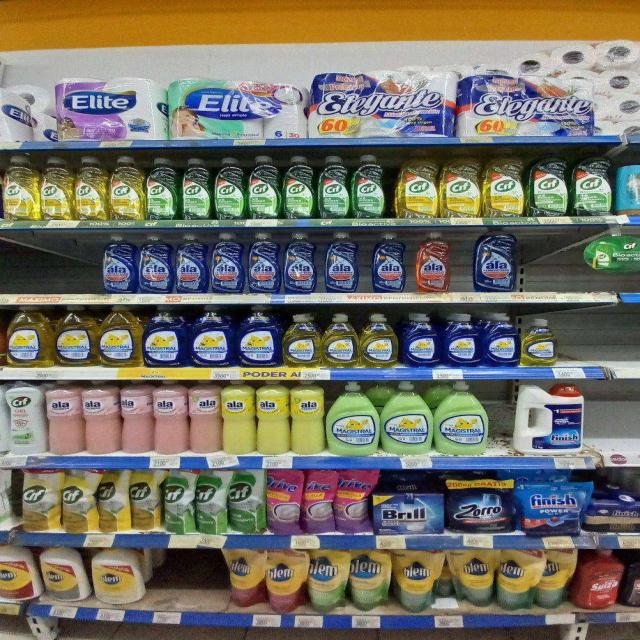ala_conc_azul: (470, 226, 522, 292), (320, 231, 363, 293), (368, 230, 409, 293), (99, 233, 136, 294), (282, 232, 318, 294), (209, 232, 245, 294), (137, 233, 173, 293), (246, 231, 280, 294), (174, 232, 208, 293)
ala_conc_rojo: (412, 230, 454, 293)
ala_crem_amarillo: (290, 378, 325, 454), (256, 379, 289, 455), (222, 378, 255, 454)
ala_crem_rosado: (46, 379, 82, 456), (8, 379, 44, 454), (84, 379, 119, 455), (154, 379, 187, 455), (188, 379, 221, 454), (121, 378, 152, 454)
cif_conc_bot_amarilla: (393, 150, 439, 218), (483, 148, 525, 217), (440, 149, 481, 218), (109, 154, 144, 220), (3, 154, 38, 220), (74, 155, 107, 221), (40, 155, 72, 220)
cif_conc_botella_verde: (527, 147, 570, 217), (571, 147, 614, 216), (351, 153, 389, 219), (246, 155, 280, 219), (316, 155, 350, 219), (282, 155, 315, 219), (213, 156, 246, 220), (145, 156, 178, 220), (180, 157, 212, 220)
cif_conc_sachet_amarillo: (20, 468, 59, 532), (61, 468, 97, 533), (130, 469, 161, 532), (99, 469, 129, 533)
cif_conc_sachet_verde: (229, 468, 265, 535), (196, 469, 228, 535), (163, 470, 195, 534)
drive: (336, 468, 375, 534), (267, 468, 302, 536), (303, 468, 335, 534)
magistral_con_amarillo: (5, 304, 51, 368), (99, 304, 142, 368), (54, 304, 97, 367), (359, 313, 398, 368), (284, 312, 320, 368), (322, 312, 358, 368), (521, 318, 556, 367)
magistral_con_azul: (188, 303, 234, 368), (236, 304, 281, 368), (144, 303, 186, 368), (400, 312, 440, 368), (442, 312, 480, 368), (481, 312, 519, 368)
magistral_con_crema: (434, 380, 490, 456), (381, 381, 432, 455), (328, 381, 378, 456)
